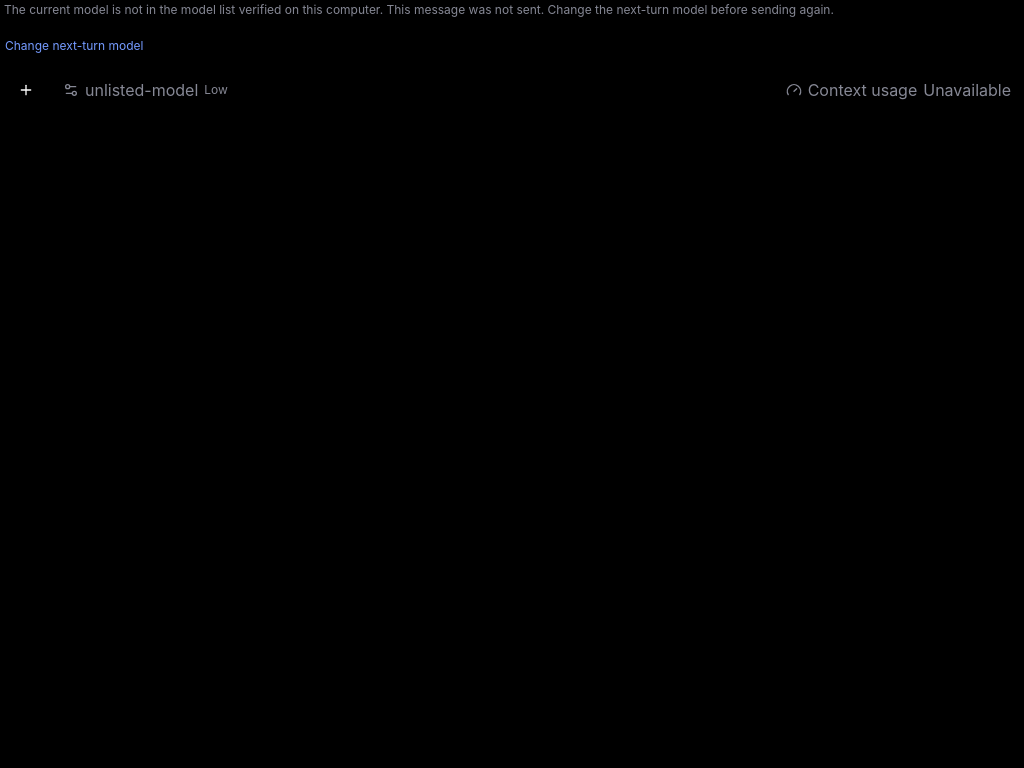
Codex settings recovery on desktop › opens the existing settings dialog for unsupported-model without submitting
This screenshot has width=1024, height=768.
Expected: the text "current model is not in the model list verified on this computer" is shown, x1=4 y1=2 x2=834 y2=17
Expected: the button "unlisted-model Low" is shown, x1=50 y1=68 x2=241 y2=112
Click the button "Change next-turn model": (74, 46) x1=4 y1=24 x2=144 y2=68
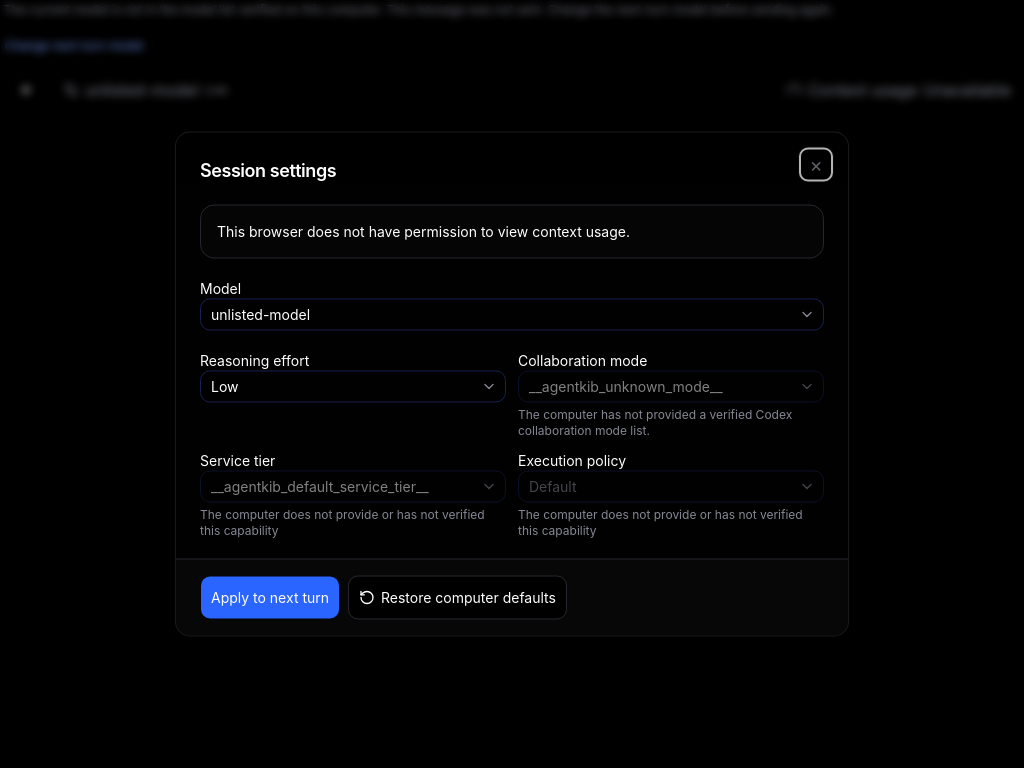
Expected: the dialog "Session settings" is shown, x1=176 y1=132 x2=848 y2=636
